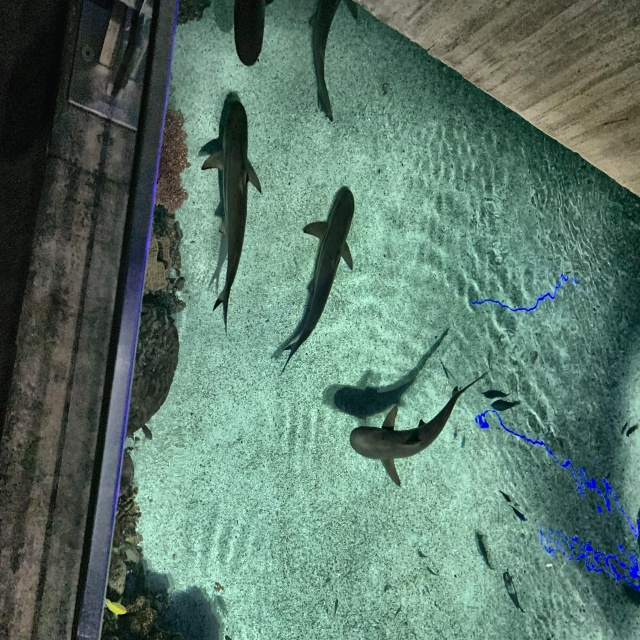fish: (501, 569, 523, 616), (104, 595, 130, 617), (481, 381, 507, 403), (139, 419, 154, 447)
shark: (344, 371, 487, 486), (200, 99, 262, 330), (283, 186, 354, 374), (303, 0, 359, 122), (229, 0, 272, 65)
